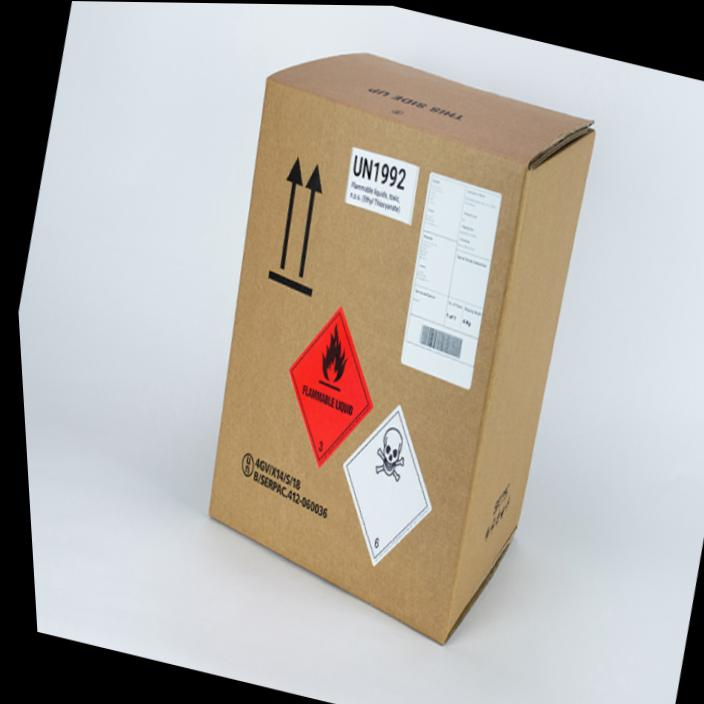can and bottle trash cans: (290, 308, 371, 465)
door: (344, 406, 431, 564)
